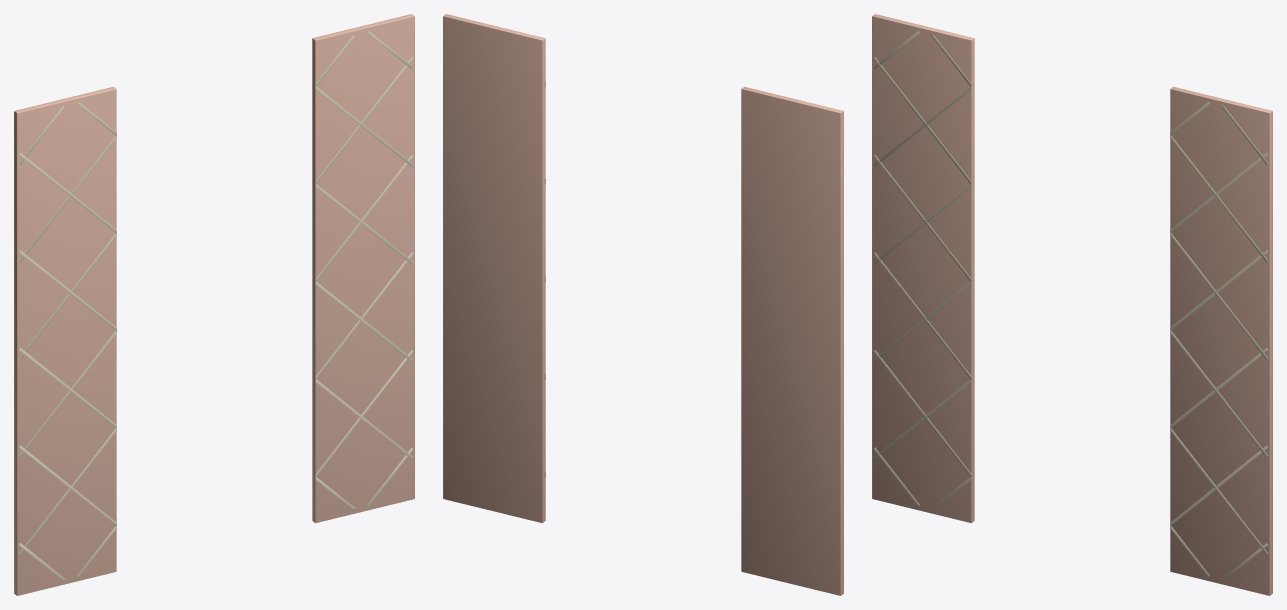
File: landing_door_TM024.glb
3 renders of one model, left to right at view 1: azimuth 30°, elevation 25°; view 2: azimuth 150°, elevation 25°; view 3: azimuth 330°, elevation 25°, orthographic.
Visible parts, largest first — view 1: Landing_Door_L, Landing_Door_R; view 2: Landing_Door_L, Landing_Door_R; view 3: Landing_Door_L, Landing_Door_R.
Boxes of the visible parts, <box> form: Landing_Door_L: <box>14,86,116,595</box>; Landing_Door_R: <box>312,14,414,523</box>; Landing_Door_L: <box>741,86,843,595</box>; Landing_Door_R: <box>443,14,545,523</box>; Landing_Door_L: <box>872,14,974,523</box>; Landing_Door_R: <box>1170,86,1272,595</box>.
Size of the model in its own units: 1.81 by 2.1 by 0.0264.
